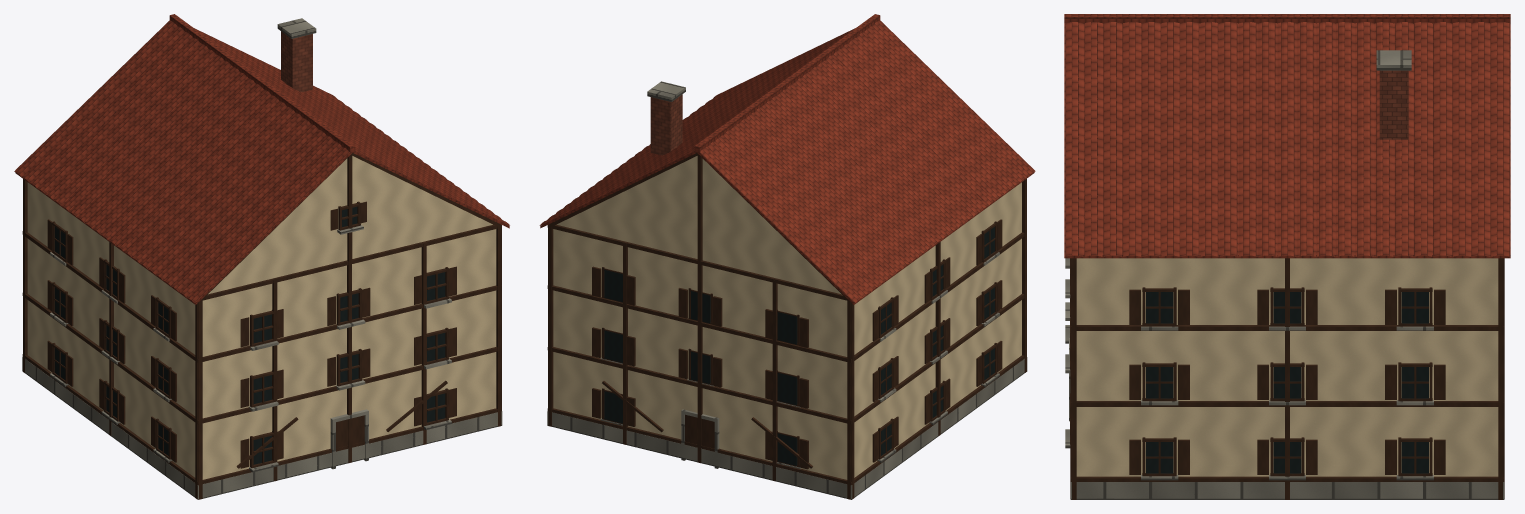
File: SG_House_D_Wide_LOD0.fbx
The picture shows the model from 3 angles, left to right: view 1: azimuth 30°, elevation 25°; view 2: azimuth 150°, elevation 25°; view 3: azimuth 270°, elevation 25°; orthographic projection. The views are drawn at different scales.
Parts seen in each view (by area): view 1: SG_House_D_Wide_Detail0; view 2: SG_House_D_Wide_Detail0; view 3: SG_House_D_Wide_Detail0.
Part boxes in pixels (x1,y1,x2,y2): SG_House_D_Wide_Detail0: (14,14,509,499); SG_House_D_Wide_Detail0: (539,14,1035,499); SG_House_D_Wide_Detail0: (1064,14,1510,499).
Bounding box in the file's own units: 29.65 × 28.95 × 29.3.
